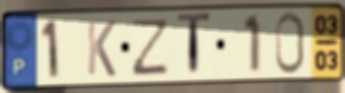0: (273, 9, 307, 77)
1: (241, 13, 265, 76), (39, 18, 62, 82)
K: (85, 18, 118, 79)
T: (175, 11, 213, 81)
Z: (129, 16, 172, 78)
